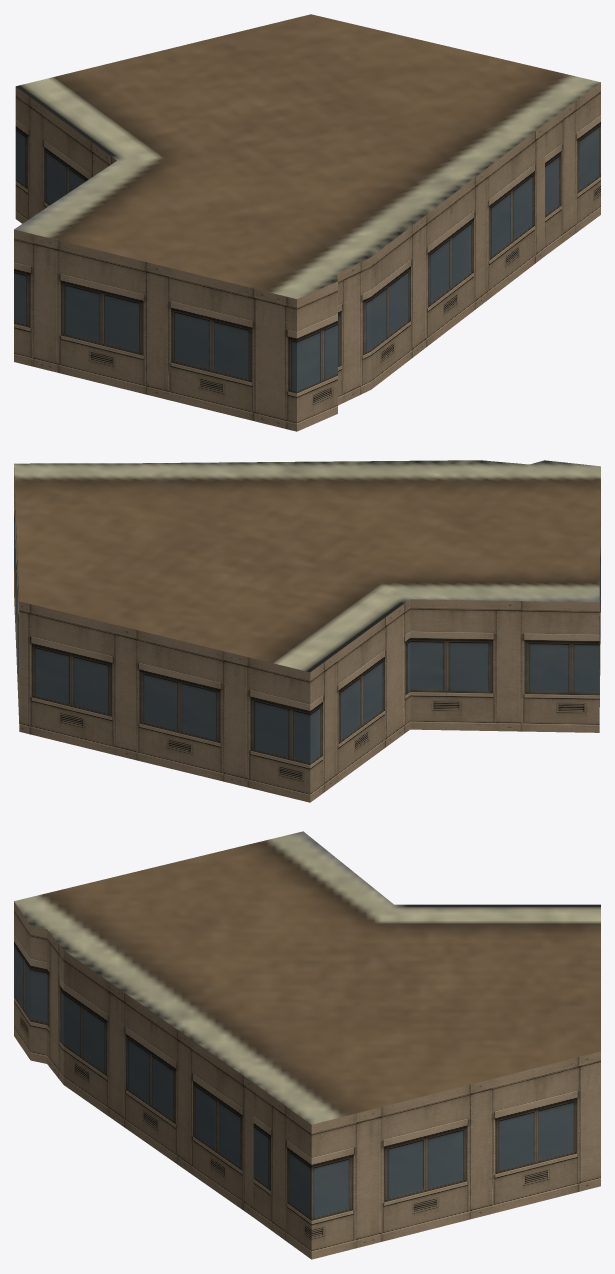
File: light_roof19.glb
3 renders of one model, top to bottom at view 1: azimuth 30°, elevation 25°; view 2: azimuth 150°, elevation 25°; view 3: azimuth 270°, elevation 25°, orthographic. The views are drawn at different scales.
Visible parts, largest first — view 1: buildings/saxarba/light/light_roof19; view 2: buildings/saxarba/light/light_roof19; view 3: buildings/saxarba/light/light_roof19.
Boxes of the visible parts, x1,y1,x2,y2 form: buildings/saxarba/light/light_roof19: (14, 14, 600, 431); buildings/saxarba/light/light_roof19: (14, 460, 600, 802); buildings/saxarba/light/light_roof19: (14, 831, 600, 1259).
Bounding box in the file's own units: 84 × 18 × 71.
